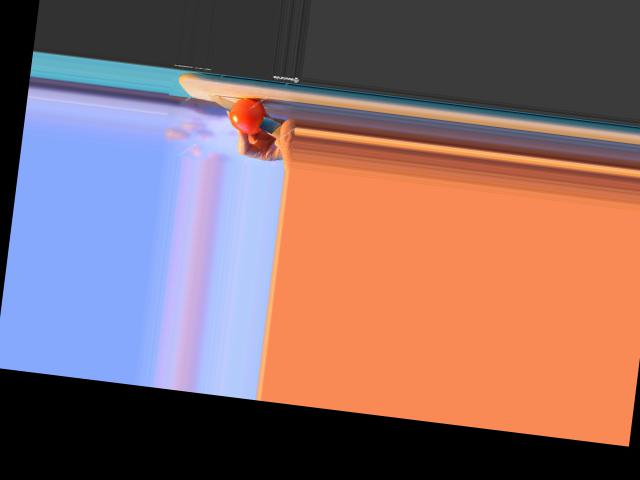tomato: (226, 95, 267, 134)
